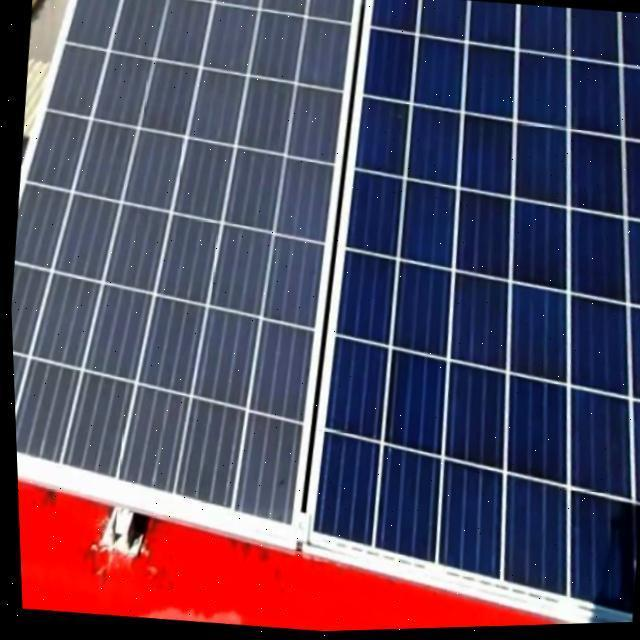Normal Solar Panel: (289, 0, 640, 622)
